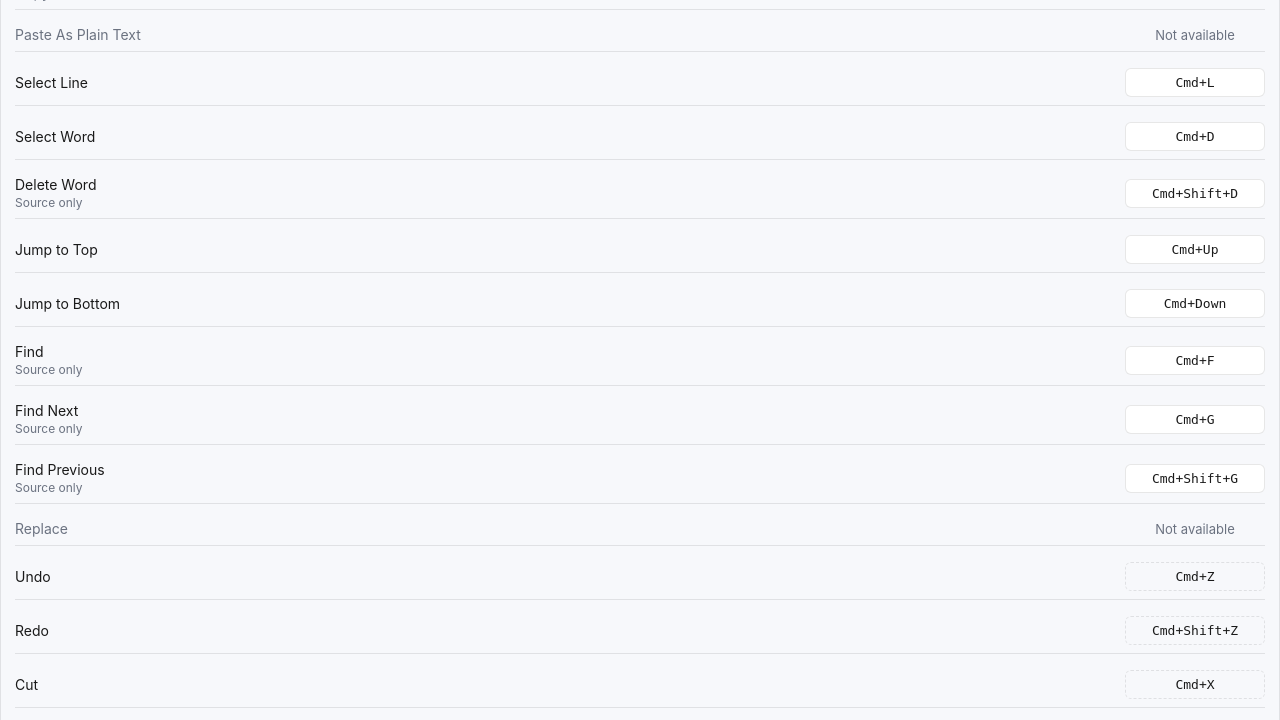
M7 row states › r2 WYSIWYG only / Source only: the key button works and the capability line sits under the name
(page scrolled)
Expected: the 2nd text with class "shortcut-capability" reads "Source only", [15,362,82,377]
Click the button "Cmd+F": [1195, 360] box [1125,346,1265,374]
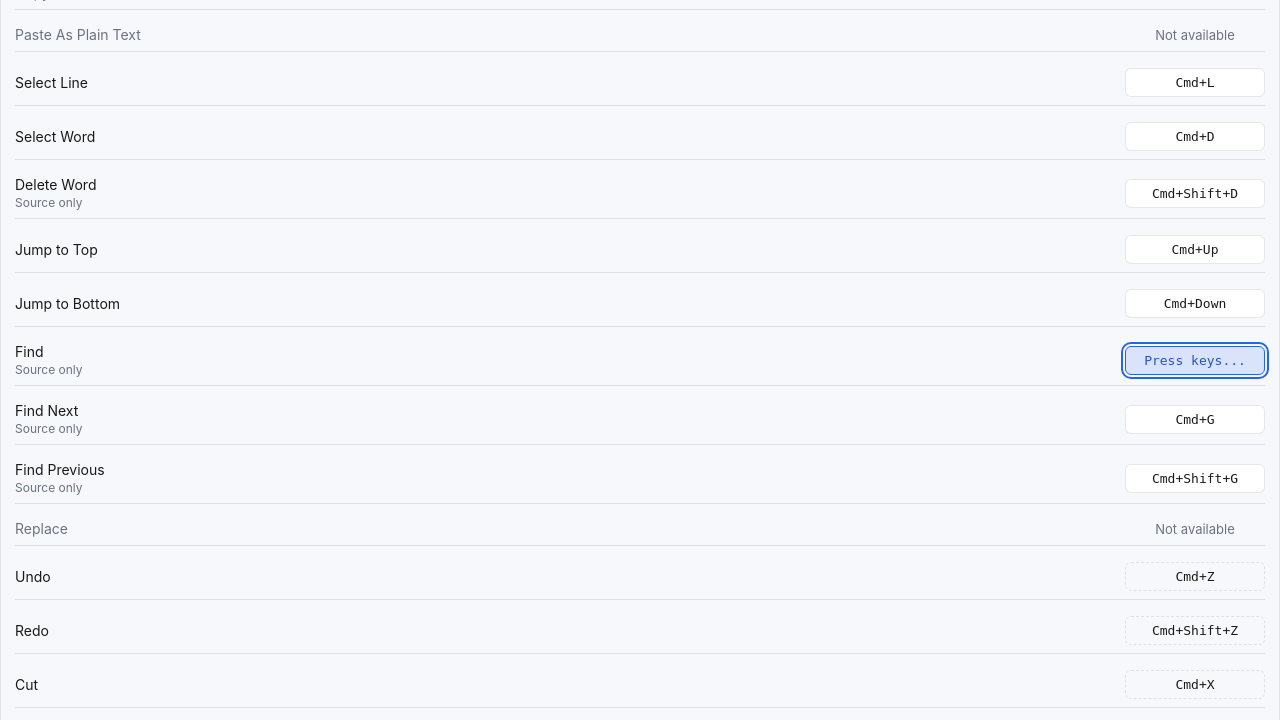
Type keys "{Meta>}{Shift>}j{/Shift}{/Meta}"
(page scrolled)
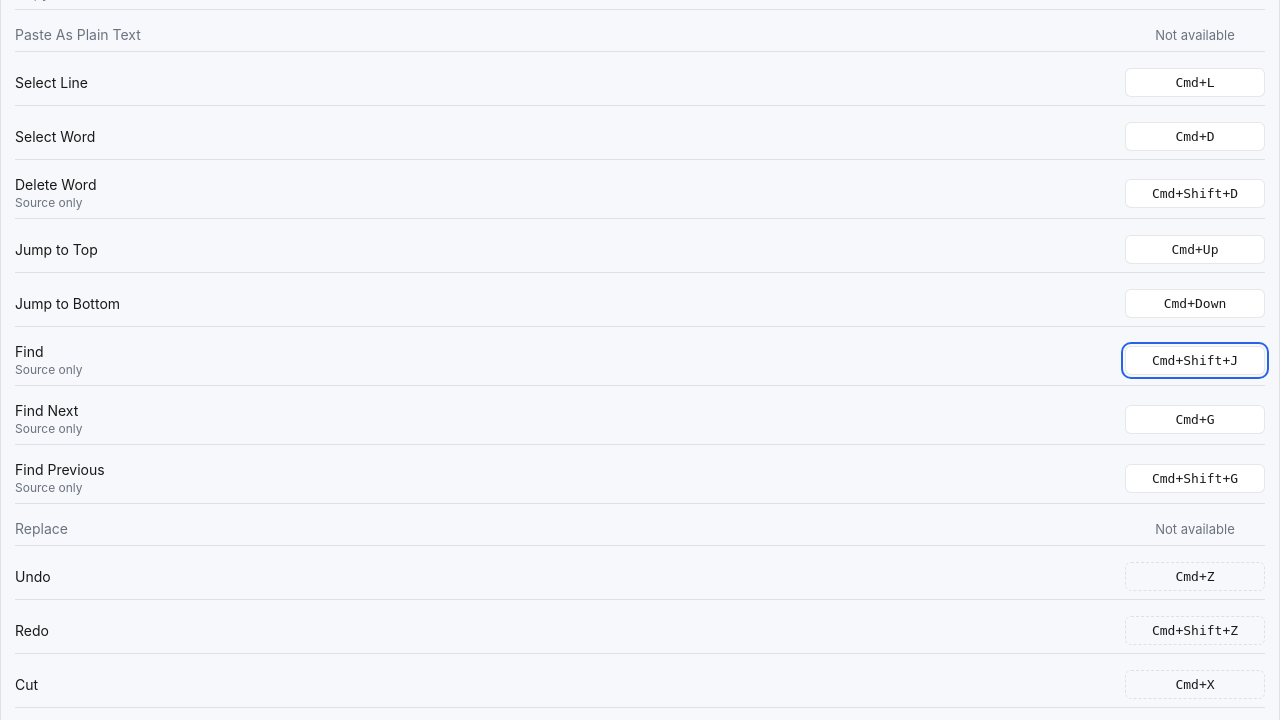
Expected: the button "Cmd+Shift+J" is shown, [1125,346,1265,374]
